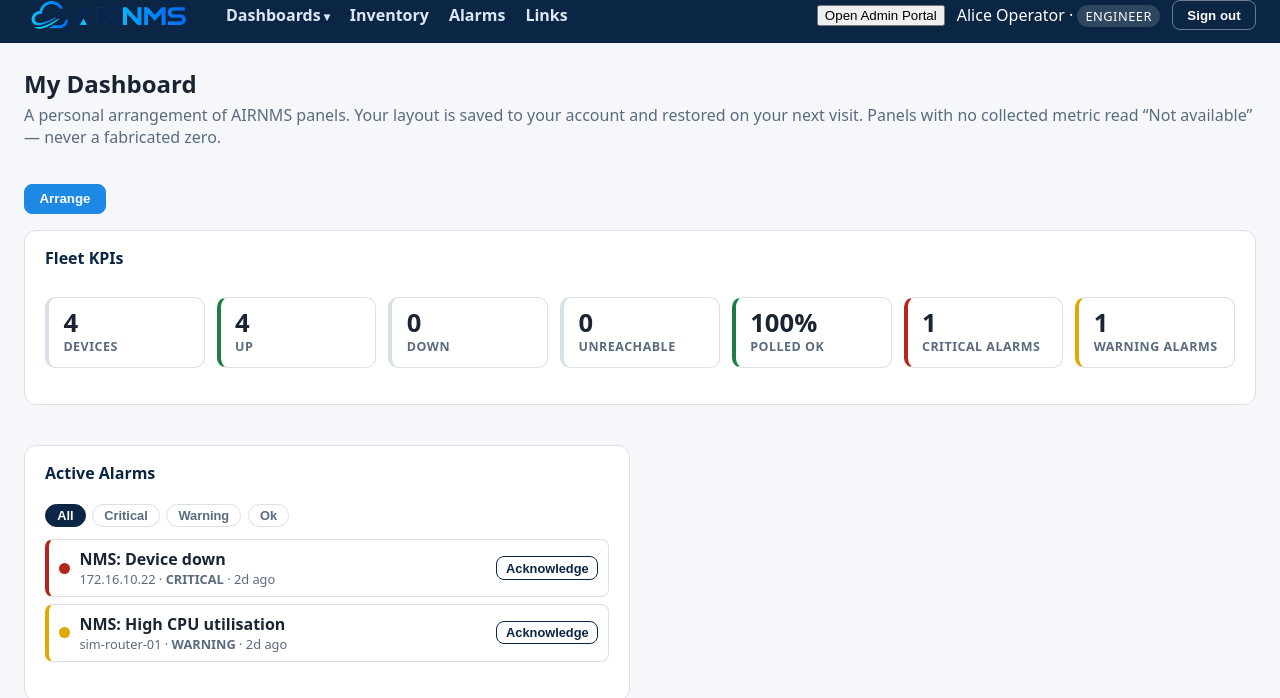
Test case: Customisable dashboard page (ADR 0010) › adding a widget updates the layout AND persists via PUT
Expected: the heading "Fleet KPIs" is shown, [45,247,124,269]
Click the button "Arrange": [65, 199] box [24,184,106,214]
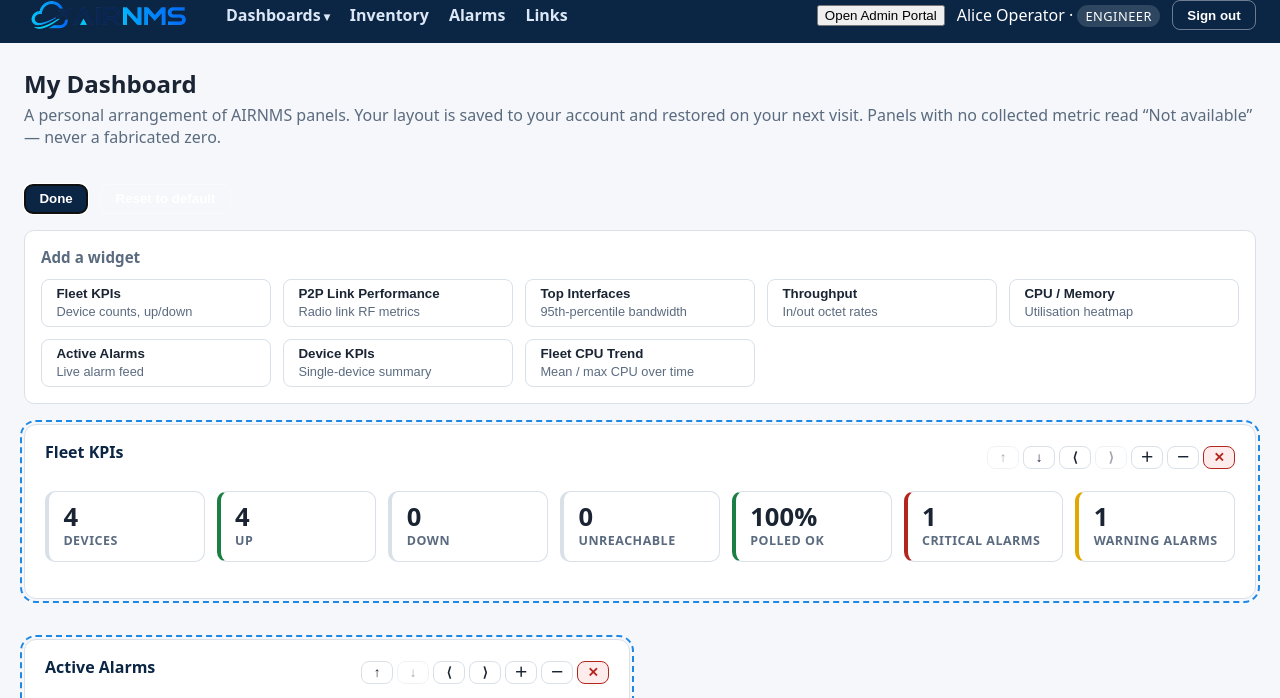
Click the button "P2P Link Performance Radio link RF metrics": [398, 303] box [283,279,513,327]
(page scrolled)
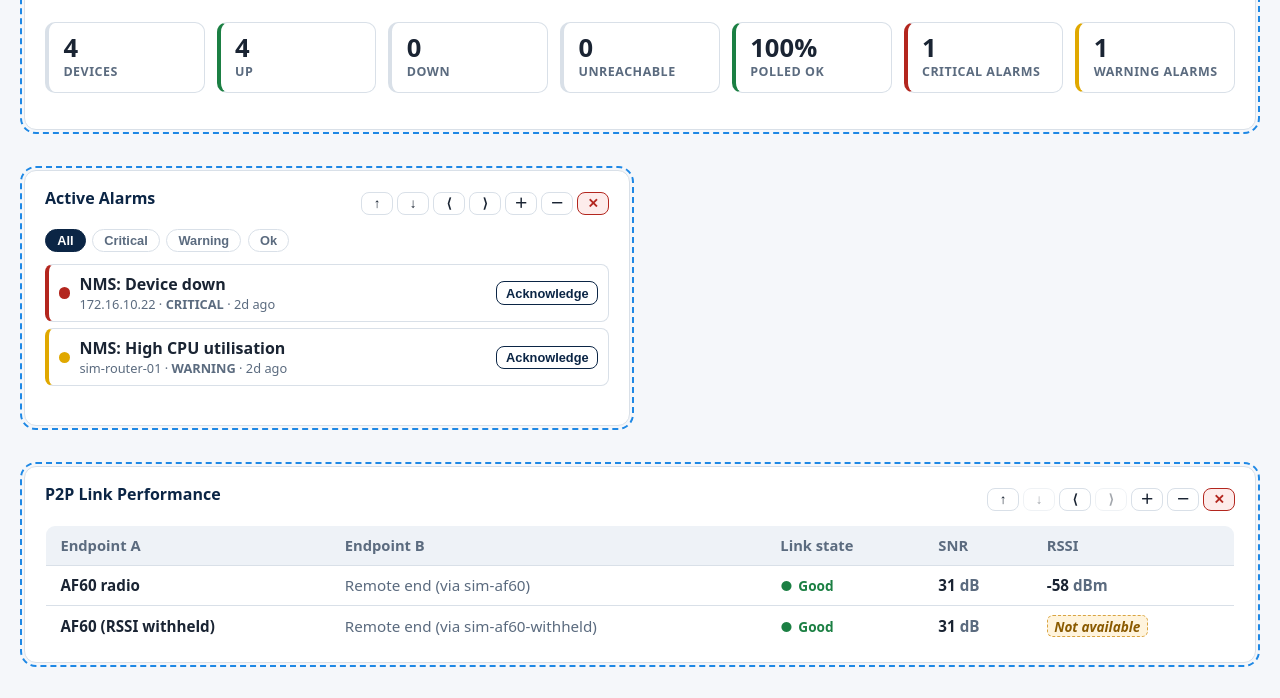
Now the heading "P2P Link Performance" is shown, box [45,483,221,505]
